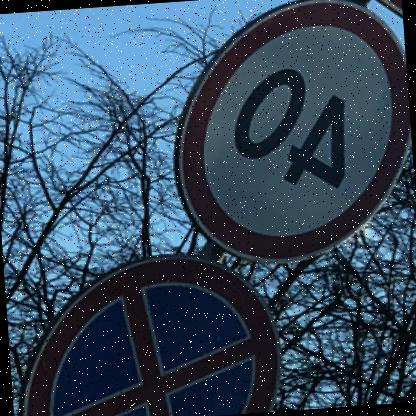speedlimit: (165, 0, 415, 272)
